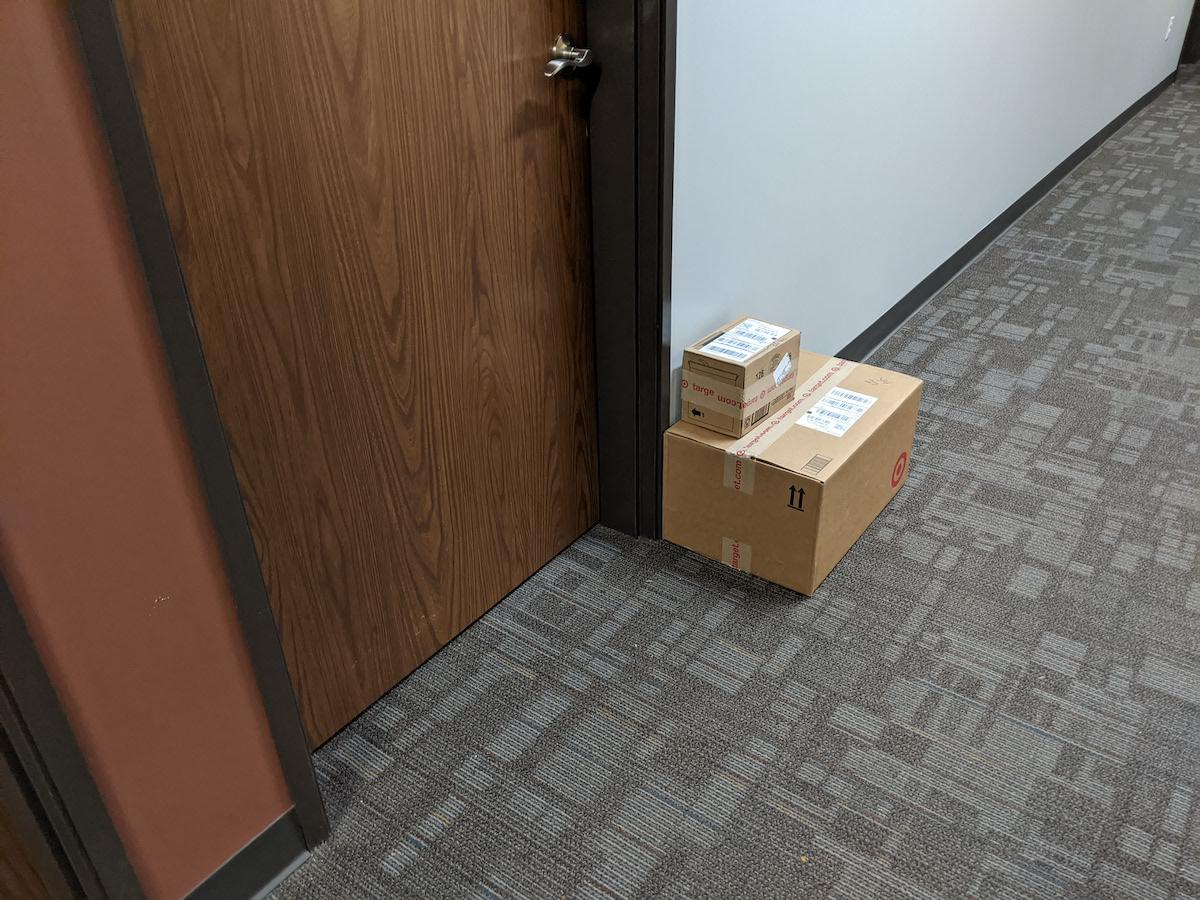package: (654, 342, 934, 600), (670, 311, 810, 441)
